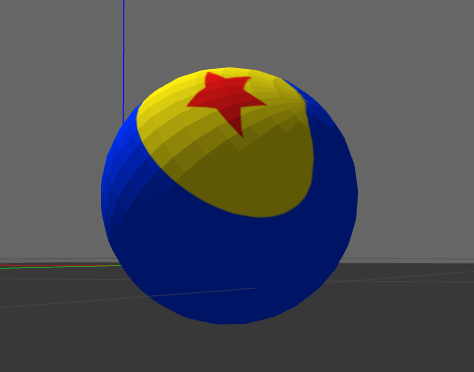toy story ball: (101, 67, 359, 325)
